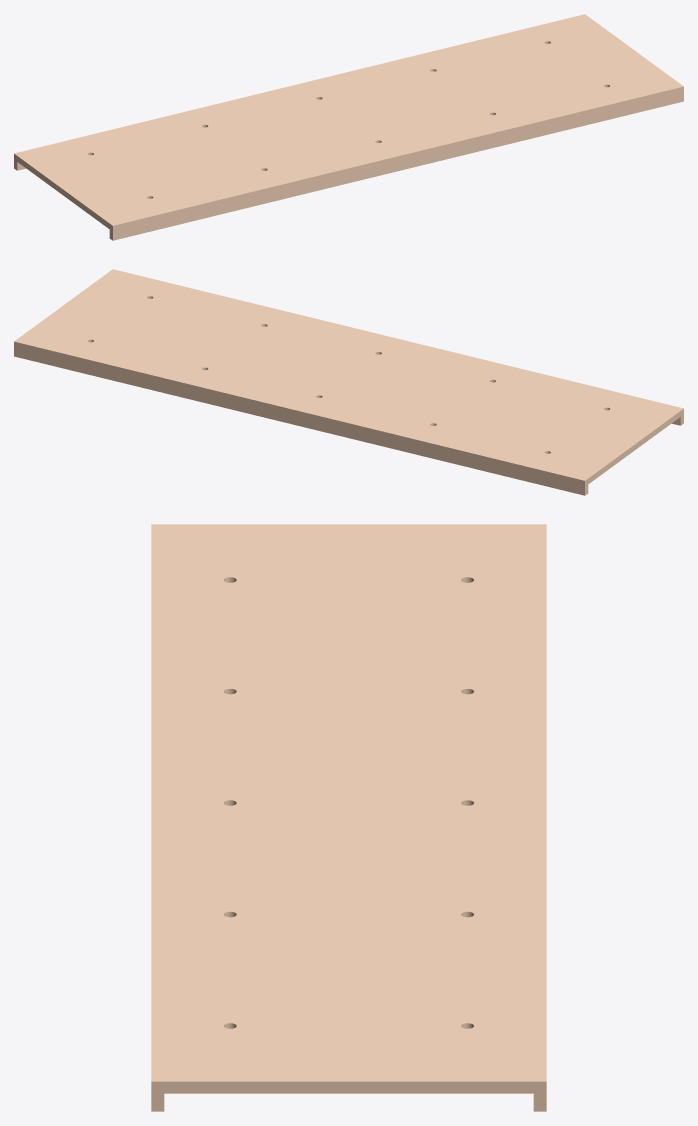
File: SPBA-RETROBALL-P10-Gold.glb
3 renders of one model, top to bottom at view 1: azimuth 30°, elevation 25°; view 2: azimuth 150°, elevation 25°; view 3: azimuth 270°, elevation 25°, orthographic. The views are drawn at different scales.
Parts seen in each view (by area): view 1: Mesh_4.001; view 2: Mesh_4.001; view 3: Mesh_4.001.
Boxes of the visible parts, box(x1,y1,x2,y2) form: Mesh_4.001: box(14, 14, 683, 240); Mesh_4.001: box(14, 269, 683, 495); Mesh_4.001: box(151, 524, 546, 1111).
Bounding box in the file's own units: 1 × 0.025 × 0.3.
